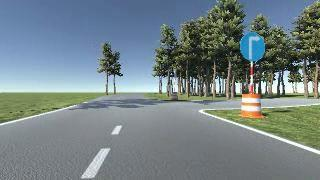turn_right: (239, 32, 265, 61)
